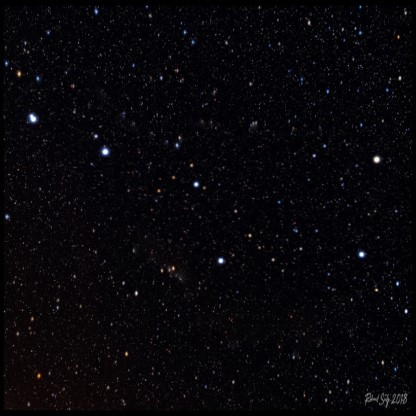Ursa Major: (87, 132, 121, 161), (178, 169, 209, 197), (205, 247, 234, 275), (364, 146, 389, 177), (351, 241, 378, 267), (20, 107, 46, 129)
